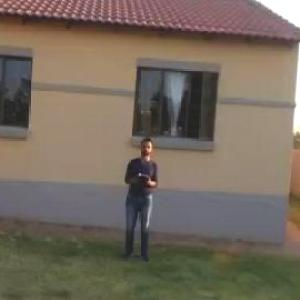follow: (116, 133, 160, 269)
